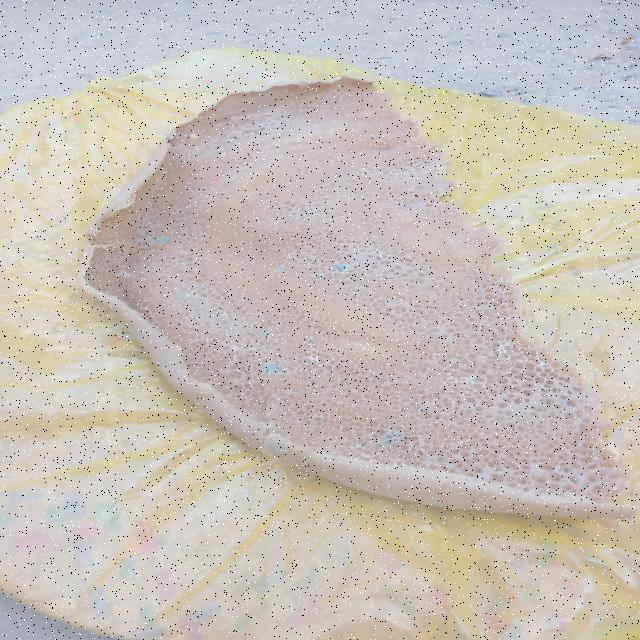injera_mold: (326, 440, 369, 459), (441, 373, 485, 388), (262, 360, 286, 378), (381, 429, 402, 447), (495, 343, 517, 360), (264, 440, 285, 455), (331, 261, 351, 276), (153, 233, 170, 249), (534, 358, 553, 372), (309, 352, 326, 367), (305, 270, 330, 280), (228, 342, 248, 354), (115, 269, 135, 281), (183, 290, 203, 300), (260, 329, 276, 340)
